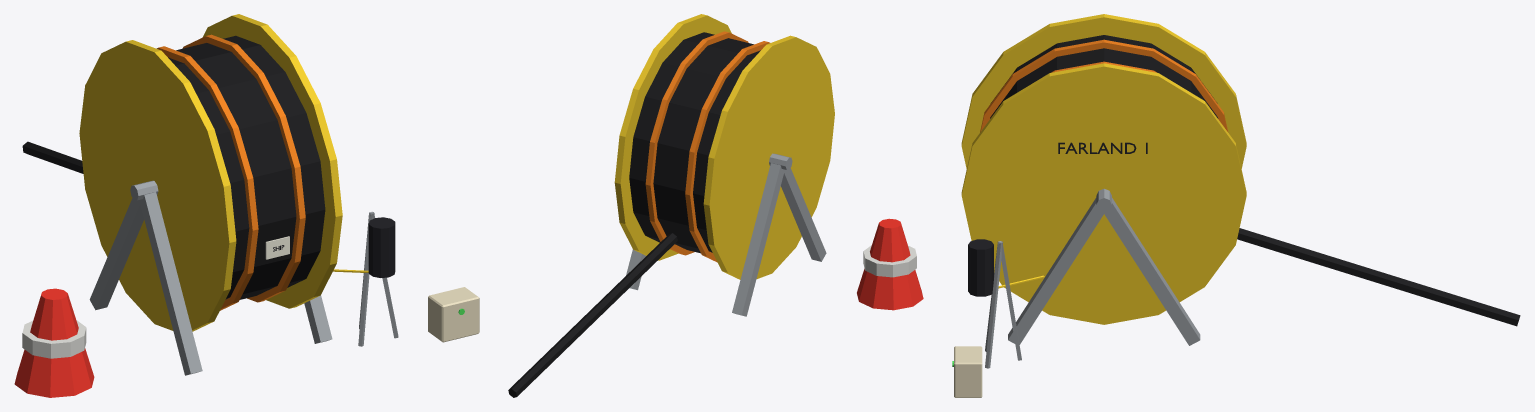
File: site.cable-reel.glb
3 views of the same model, side by side, from view 1: azimuth 30°, elevation 25°; view 2: azimuth 150°, elevation 25°; view 3: azimuth 270°, elevation 25° (orthographic). The views are drawn at different scales.
Visible parts, largest first — view 1: flange-1, cable, flange1, buoy, stand-1a, strap1, strap0, test-set, stand-1b, closure, buoy-band, stand1a (+3 smaller); view 2: flange-1, cable, flange1, buoy, pay-out, stand-1b, strap1, strap0, stand-1a, buoy-band; view 3: flange1, flange-1, pay-out, cable, strap0, stand1b, stand1a, test-set, closure, tripod1, tripod2.
Boxes of the visible parts, x1,y1,x2,y2 form: flange-1: (79, 40, 236, 331); cable: (168, 35, 325, 299); flange1: (203, 14, 342, 308); buoy: (14, 288, 94, 397); stand-1a: (139, 192, 202, 375); strap1: (182, 34, 305, 302); strap0: (156, 46, 258, 310); test-set: (428, 287, 479, 342); stand-1b: (89, 198, 144, 310); closure: (368, 217, 395, 277); buoy-band: (22, 320, 86, 358); stand1a: (304, 295, 332, 343); flange-1: (703, 35, 834, 279); cable: (629, 32, 760, 253); flange1: (614, 14, 731, 260); buoy: (857, 218, 923, 310); pay-out: (508, 233, 677, 397); stand-1b: (732, 163, 784, 316); strap1: (645, 31, 748, 255); strap0: (685, 41, 769, 262); stand-1a: (781, 168, 826, 261); buoy-band: (863, 245, 916, 277); flange1: (961, 63, 1246, 324); flange-1: (961, 14, 1246, 168); pay-out: (1237, 228, 1520, 326); cable: (990, 35, 1218, 118); strap0: (980, 39, 1228, 132); stand1b: (1103, 198, 1200, 345); stand1a: (1008, 198, 1105, 344); test-set: (954, 346, 982, 397); closure: (968, 239, 993, 296); tripod1: (985, 242, 1001, 368); tripod2: (998, 241, 1021, 360).
Bounding box in the file's own units: 3.4 × 2.33 × 4.38.
